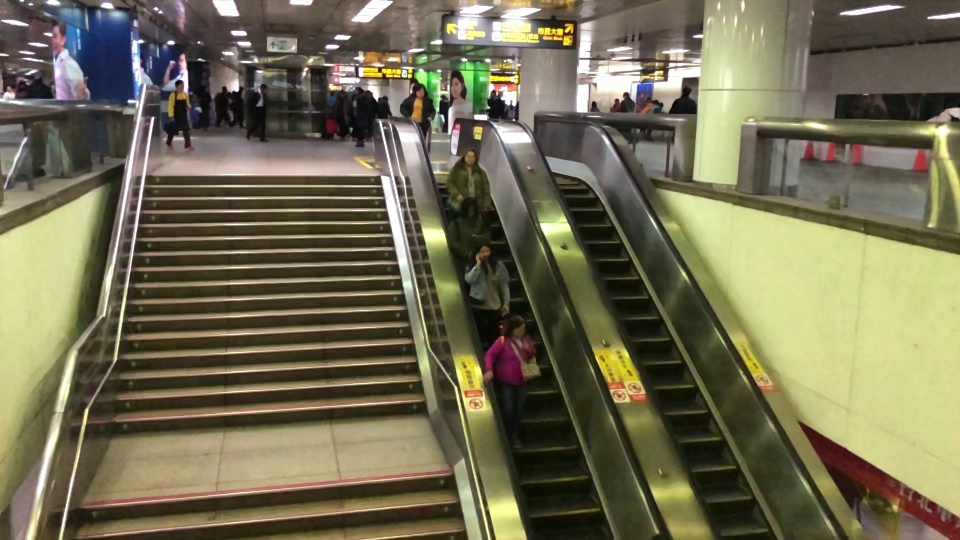person_head: (450, 197, 478, 226), (503, 316, 530, 337), (474, 244, 494, 265), (412, 82, 429, 101), (464, 149, 479, 166), (608, 99, 621, 112), (677, 86, 689, 100), (174, 79, 187, 91), (259, 82, 269, 95), (30, 81, 43, 91), (624, 91, 634, 102), (353, 87, 364, 94), (648, 98, 658, 104), (657, 100, 665, 107), (382, 94, 389, 102), (591, 100, 600, 106), (496, 90, 502, 98), (613, 98, 621, 103)
person_vbox: (473, 313, 545, 452), (458, 241, 521, 342), (445, 149, 497, 215), (397, 83, 439, 157), (445, 195, 492, 249), (164, 81, 199, 152), (27, 80, 52, 179), (244, 82, 273, 143), (349, 86, 367, 148), (668, 83, 697, 113), (638, 99, 653, 138), (649, 101, 663, 140), (622, 94, 640, 119), (494, 90, 506, 119), (381, 93, 393, 117), (588, 99, 601, 115)
